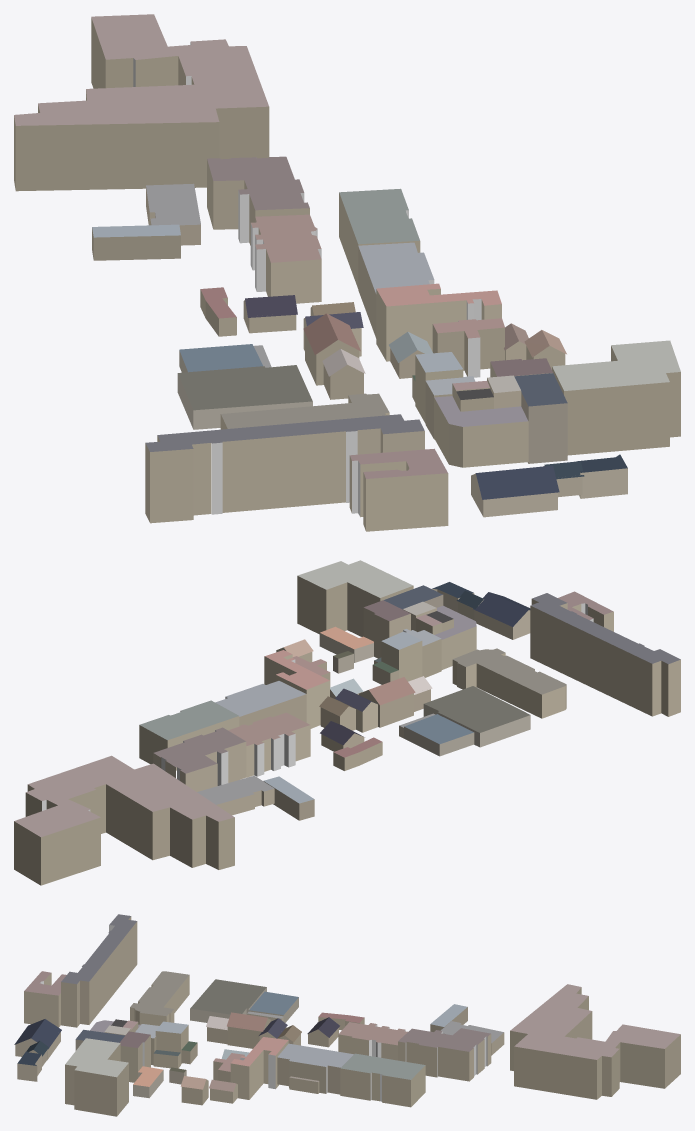
3 renders of one model, top to bottom at view 1: azimuth 30°, elevation 25°; view 2: azimuth 150°, elevation 25°; view 3: azimuth 270°, elevation 25°, orthographic. The views are drawn at different scales.
Visible parts, largest first — view 1: tuile; view 2: tuile; view 3: tuile.
Part boxes in pixels (<box>): tuile: <box>14,14,680,531</box>; tuile: <box>14,560,680,885</box>; tuile: <box>14,914,680,1116</box>.
Bounding box in the file's own units: 136 × 20.76 × 248.
